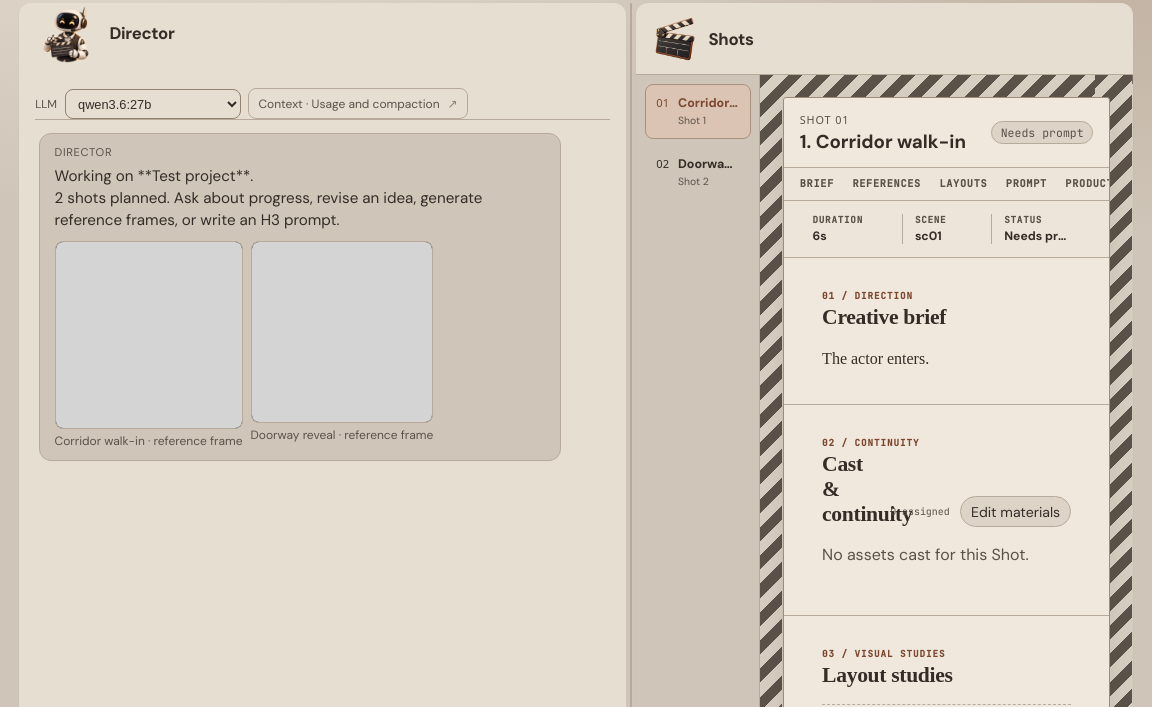
Test: Director shot actions › keeps the selected Shot prompt action in the main shortcut row
Expected: the heading "1. Corridor walk-in" is shown, [800,129,966,154]
What coordinates should you click on to do the following:
click the button with aria-label "Shot 2 · Doorway reveal"
I would click on:
 (698, 172)
Its box is [645,144,751,199].
(page scrolled)
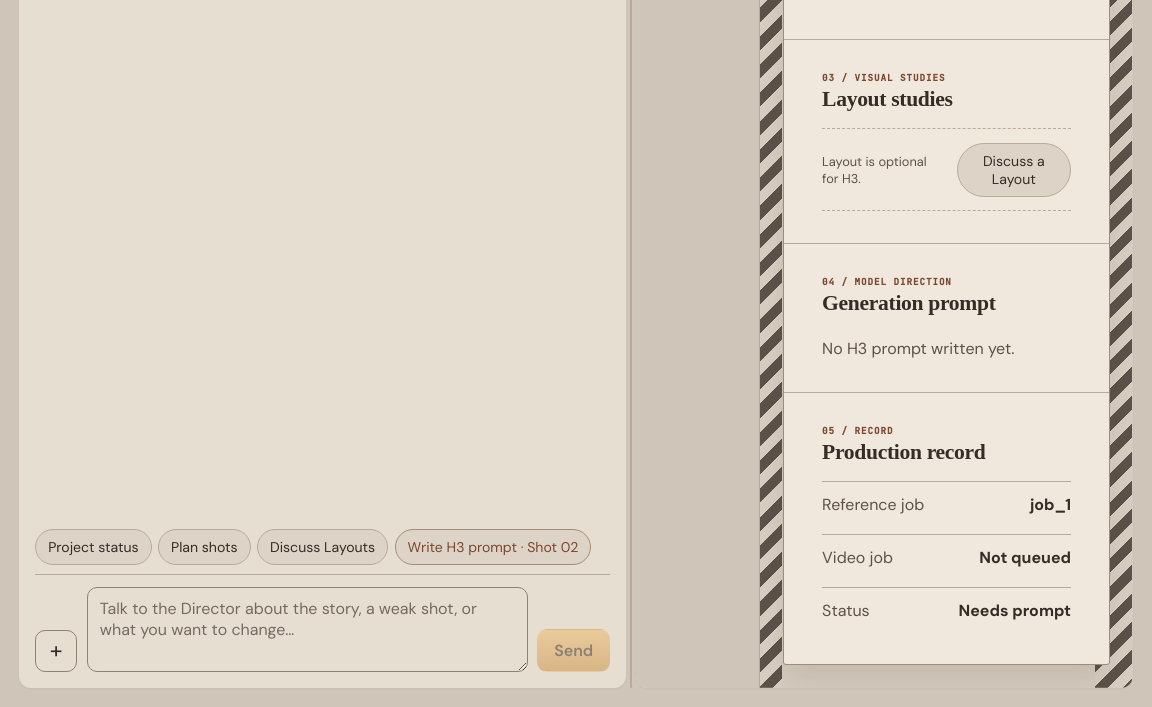
Expected: the button "Discuss a Layout" is shown, [956,143,1071,197]
Now the element "Write H3 prompt · Shot 02" is shown, box [35,529,610,565]
What coordinates should you click on to do the following:
click the button "Write H3 prompt · Shot 02"
I would click on:
 (493, 547)
Its box is [394,529,591,565].
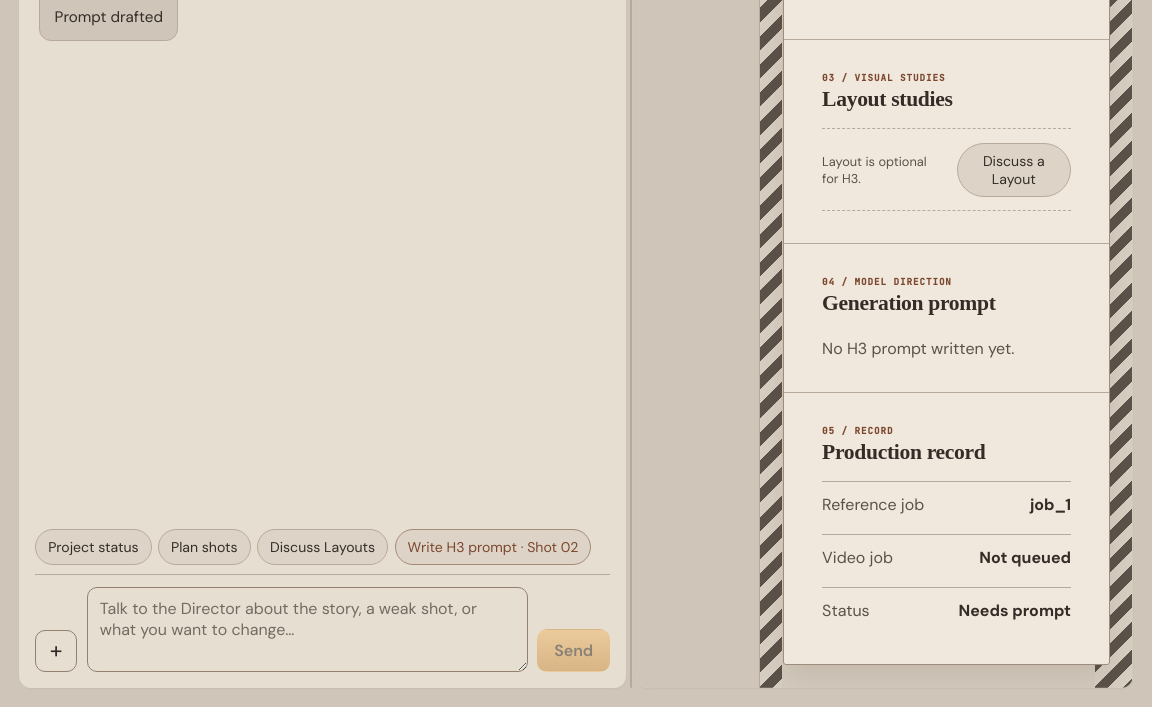
Now the text "Prompt drafted" is shown, box [55,6,163,28]
